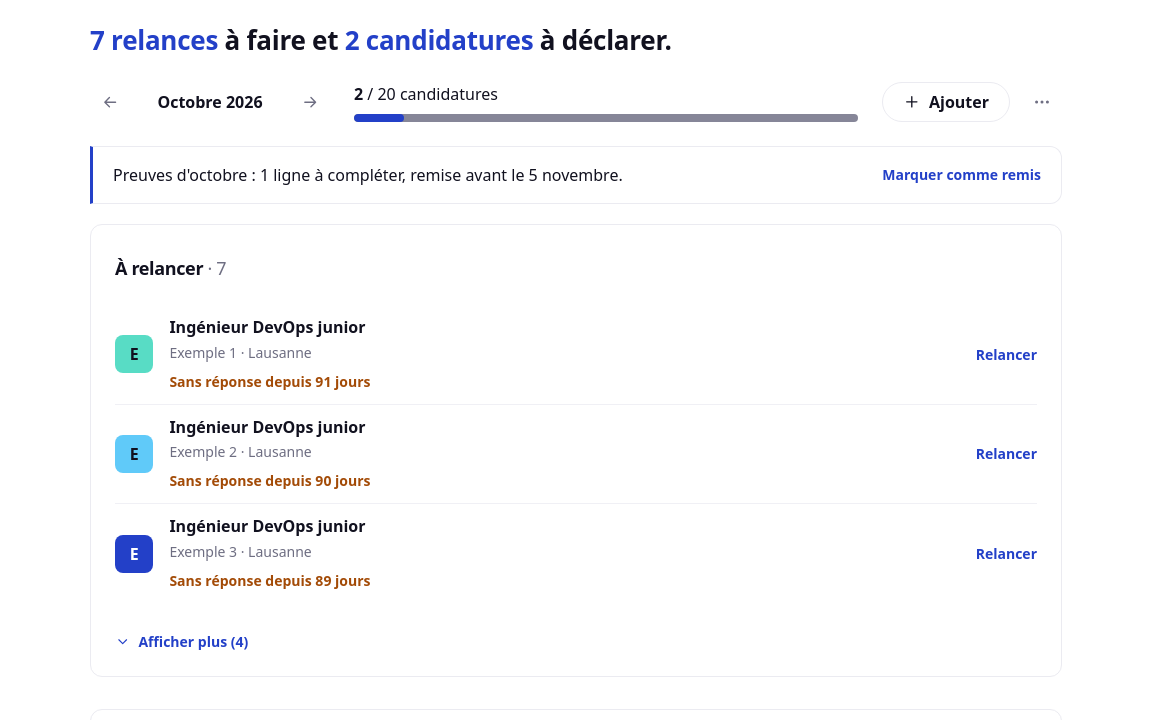
it: Suivi, l'essentiel d'abord (1.6.20, annexe de l'audit : Suivi trop chargé) › à relancer et à déclarer : deux listes l'une sous l'autre, trois lignes chacune, « Afficher plus »
The width and height of the screenshot is (1152, 720).
expect the heading "À relancer · 7" is shown: met, box [115, 257, 226, 280]
expect the number of elements with test id "application-card" is 3: met, box [107, 305, 1045, 404]; [107, 405, 1045, 503]; [107, 504, 1045, 603]
Click the button with test id "todo-all" at (193, 642), box [115, 631, 1037, 652]
(page scrolled)
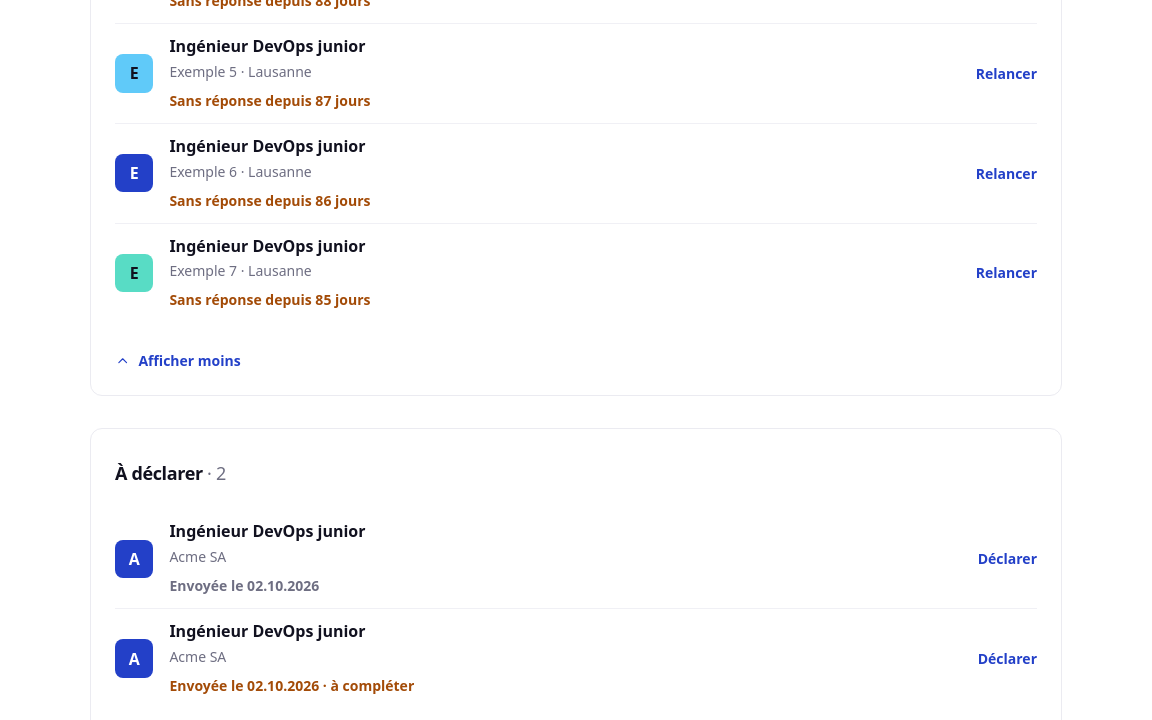
expect the number of elements with test id "application-card" is 7: met
expect the button with test id "todo-all" reads "Afficher moins": met, box [115, 350, 1037, 371]
